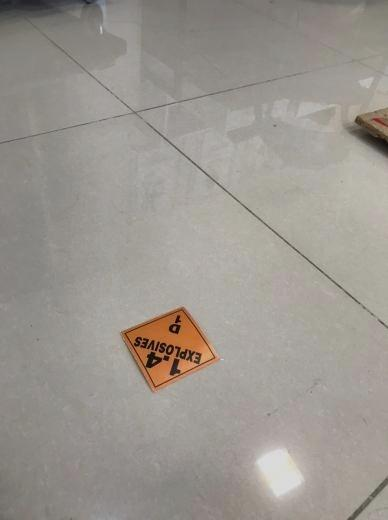explosive: (120, 308, 219, 389)
